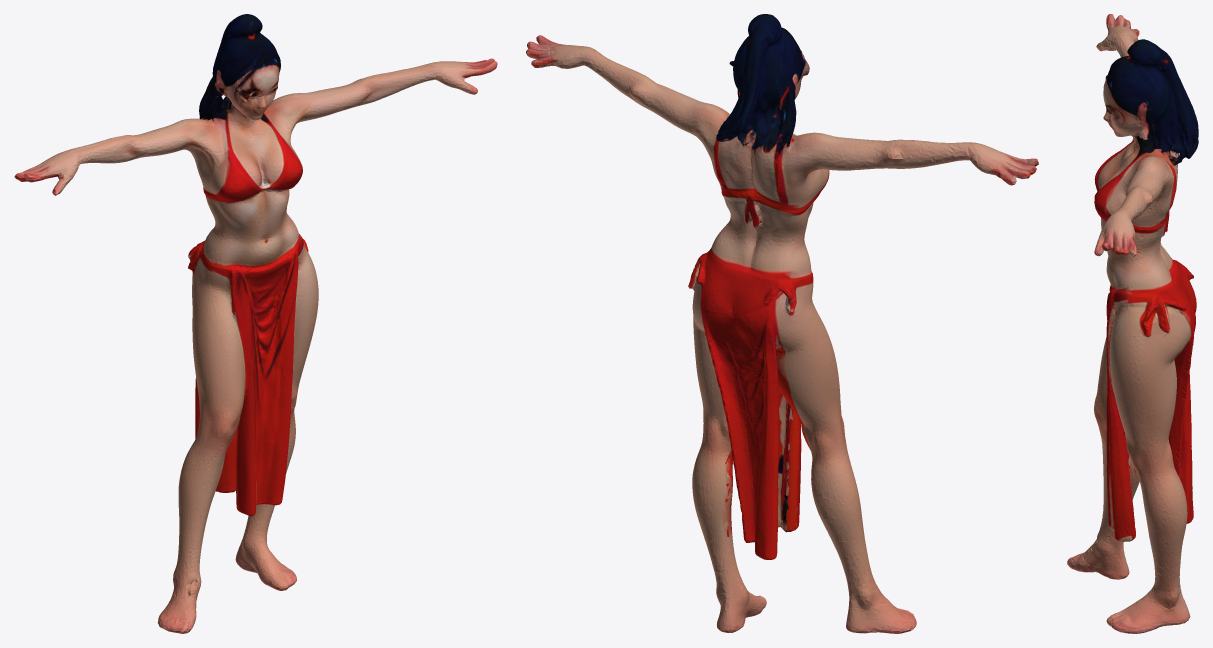
File: succubus_textured_vmv.obj
3 renders of one model, left to right at view 1: azimuth 30°, elevation 25°; view 2: azimuth 150°, elevation 25°; view 3: azimuth 270°, elevation 25°, orthographic. The views are drawn at different scales.
Visible parts, largest first — view 1: succubus_textured_vmv; view 2: succubus_textured_vmv; view 3: succubus_textured_vmv.
Boxes of the visible parts, bbox=[...] form: succubus_textured_vmv: bbox=[14, 14, 497, 633]; succubus_textured_vmv: bbox=[526, 14, 1038, 633]; succubus_textured_vmv: bbox=[1067, 14, 1198, 633].
Bounding box in the file's own units: 1.75 × 1.99 × 0.4128.
1 material, 1 textured.
